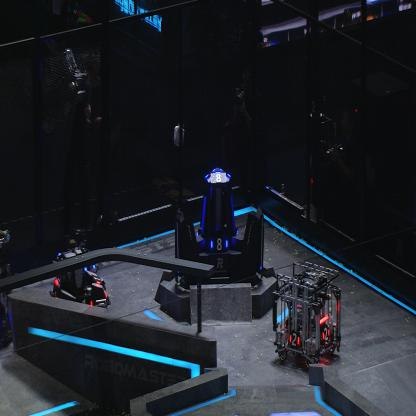car: (270, 258, 341, 368), (50, 227, 111, 316), (0, 225, 17, 350)
